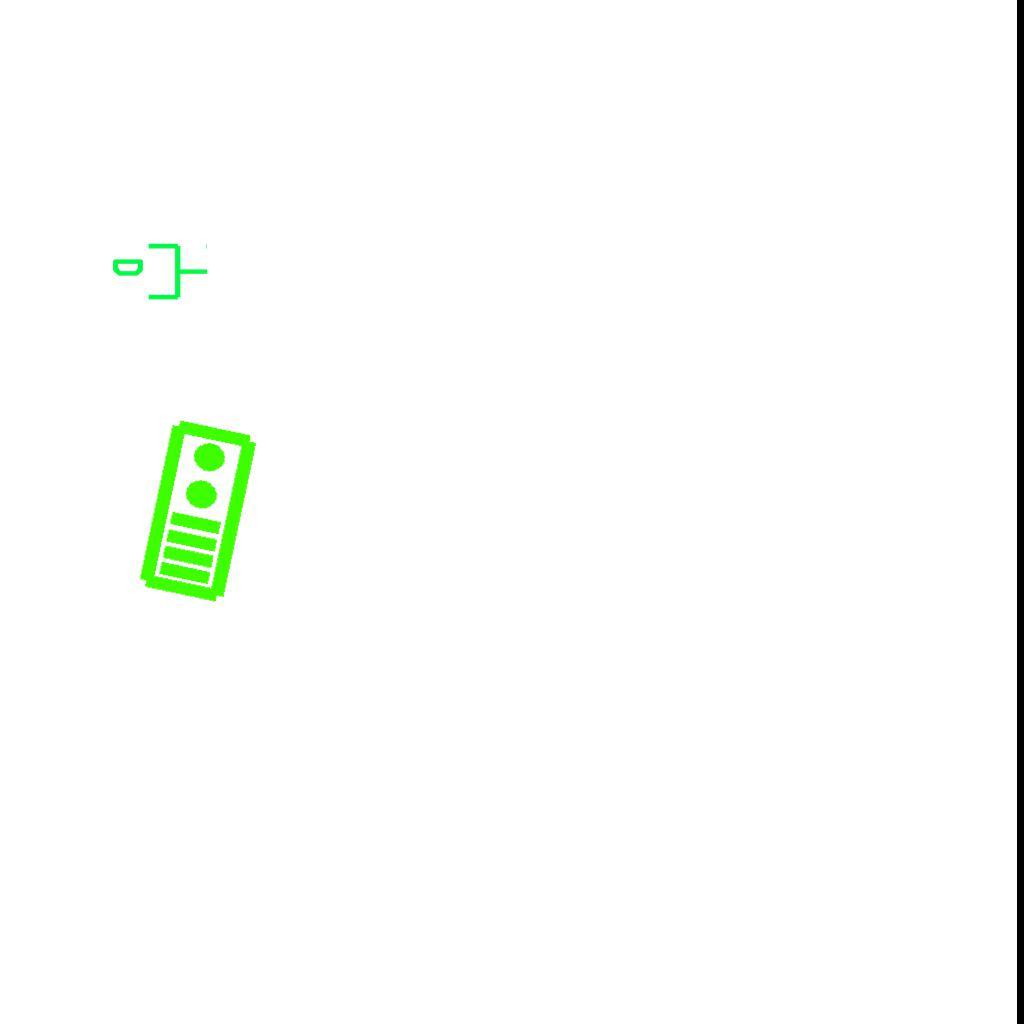Datenanschluss_einfach: (110, 239, 210, 308)
Gegensprechanlage_mit_Video: (131, 414, 262, 606)
